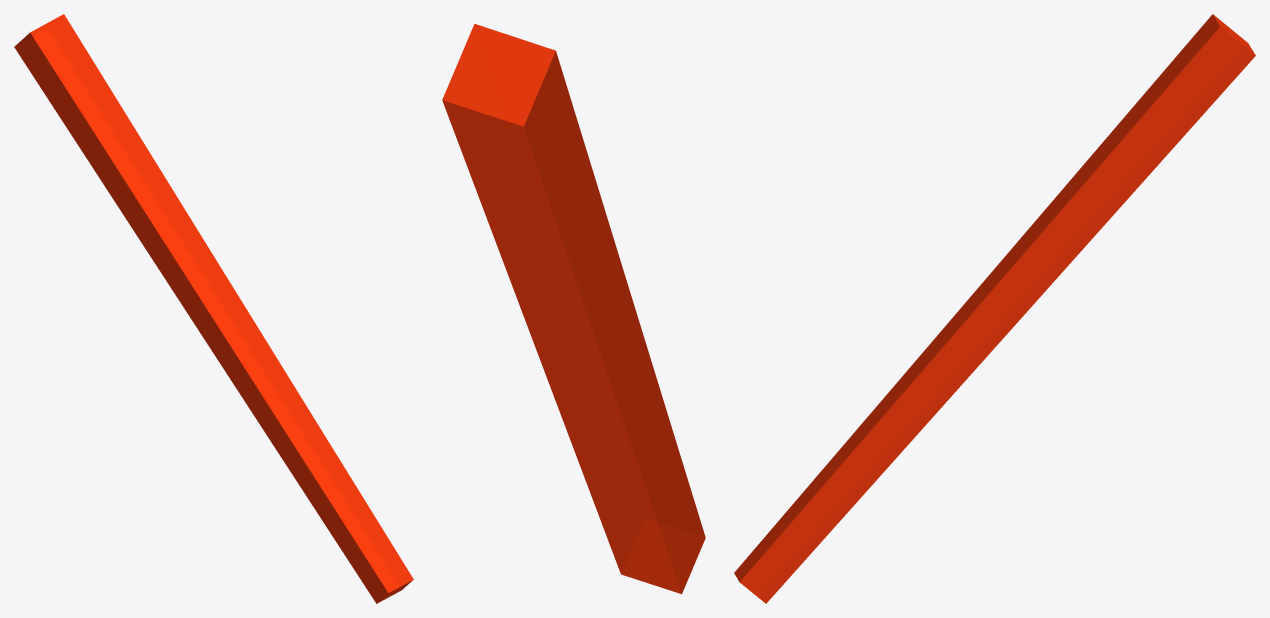
The model's file is Event_420094457_EBrechit_3.fbx.
3 renders of one model, left to right at view 1: azimuth 30°, elevation 25°; view 2: azimuth 150°, elevation 25°; view 3: azimuth 270°, elevation 25°, orthographic. The views are drawn at different scales.
Parts seen in each view (by area): view 1: Model; view 2: Model; view 3: Model.
Boxes of the visible parts, box(x1,y1,x2,y2) form: Model: box(14, 14, 413, 603); Model: box(442, 23, 705, 594); Model: box(734, 14, 1255, 603).
Bounding box in the file's own units: 0.3373 × 0.8801 × 0.8136.
